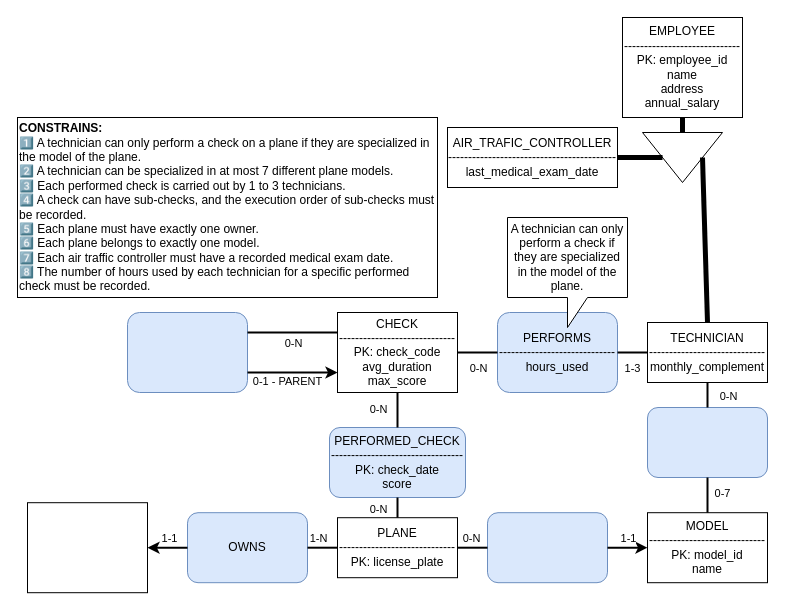
Some shapes in this 785 by 611 pixel diagram are drawn without their labels. Each missing label, with the box of its shape:
IS TYPE: (486, 512, 608, 583)
ISAs: (642, 132, 722, 182)
OWNER ----------------------------- PK: owner_id name address: (26, 502, 148, 593)
SUB_CHECK ----------------------------- execution_order: (126, 312, 248, 392)
TECHNICIAN SPECIALIZATION ----------------------------- specialization_date: (646, 406, 768, 478)
